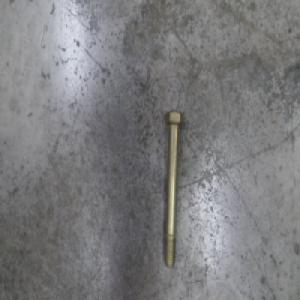Bolt: (163, 109, 184, 271)
